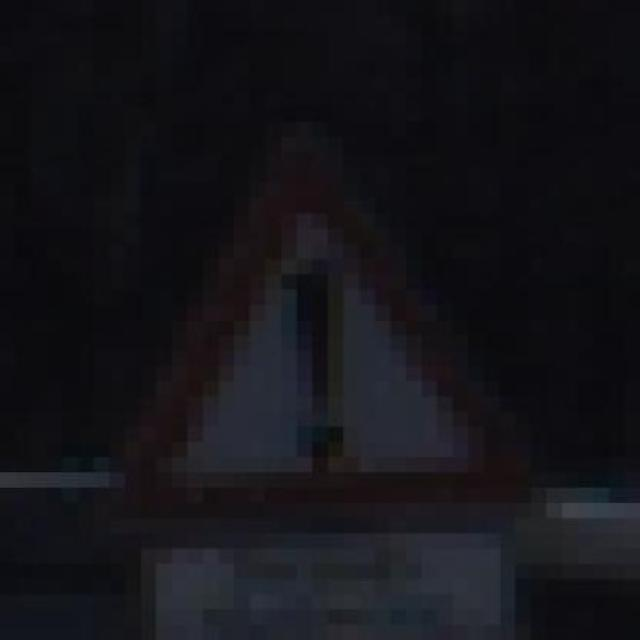Attention Please-: (47, 91, 562, 518)
